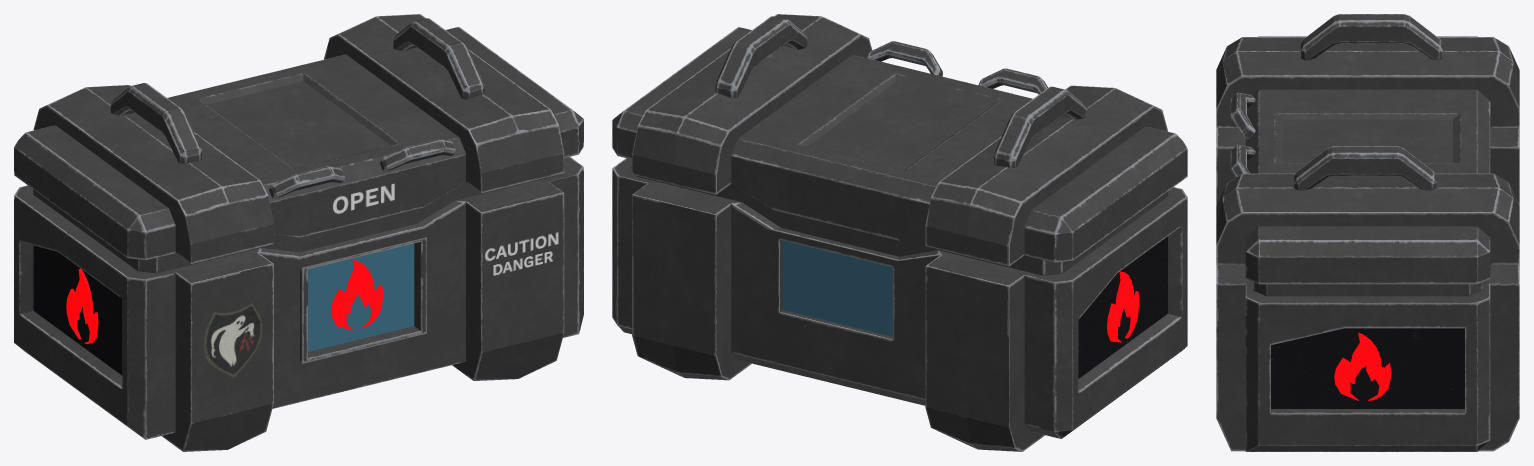
The model's file is Flamethrower.fbx.
3 views of the same model, side by side, from view 1: azimuth 30°, elevation 25°; view 2: azimuth 150°, elevation 25°; view 3: azimuth 270°, elevation 25° (orthographic). The views are drawn at different scales.
Parts seen in each view (by area): view 1: Box, FlameThrower; view 2: Box, FlameThrower; view 3: Box, FlameThrower.
Boxes of the visible parts, left/top/right/bottom form: Box: left=14, top=14, right=583, bottom=451; FlameThrower: left=66, top=260, right=383, bottom=344; Box: left=612, top=14, right=1187, bottom=451; FlameThrower: left=1107, top=271, right=1139, bottom=342; Box: left=1216, top=14, right=1519, bottom=451; FlameThrower: left=1334, top=332, right=1391, bottom=400.
Bounding box in the file's own units: 334 × 207 × 199.
Materials: 4 (1 with a texture image).
